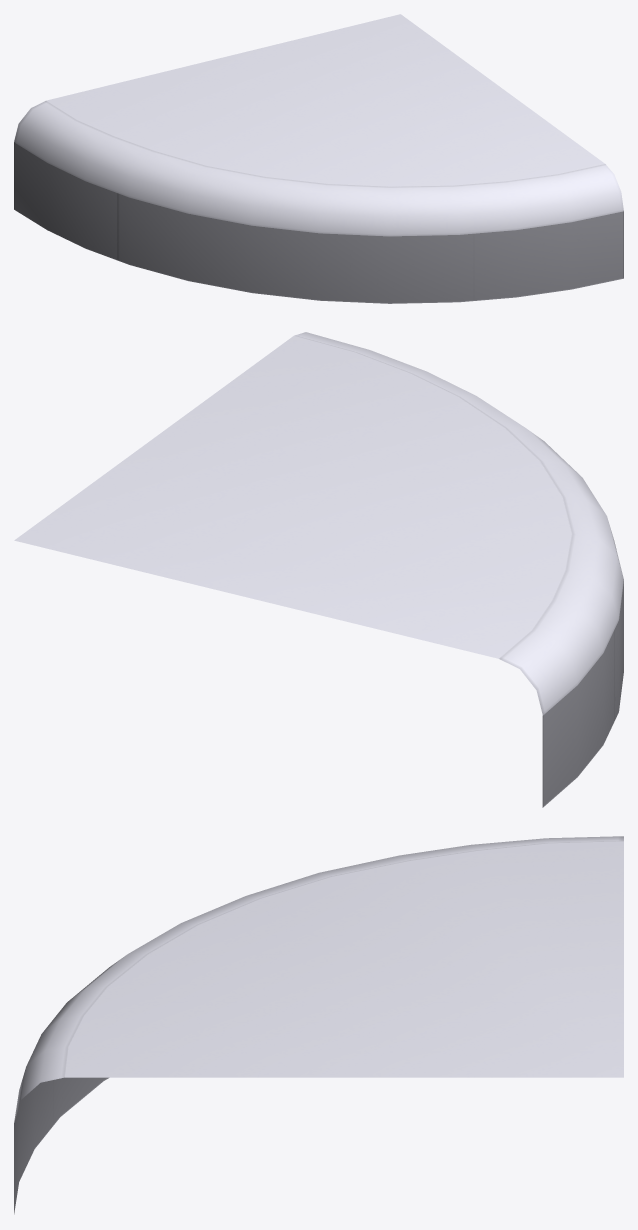
The model's file is Roof_Angle_01.FBX.
The picture shows the model from 3 angles, top to bottom: view 1: azimuth 30°, elevation 25°; view 2: azimuth 150°, elevation 25°; view 3: azimuth 270°, elevation 25°; orthographic projection. The views are drawn at different scales.
Visible parts, largest first — view 1: Roof_Angle_01; view 2: Roof_Angle_01; view 3: Roof_Angle_01.
Part boxes in pixels (left/top/right/bottom): Roof_Angle_01: left=14, top=14, right=623, bottom=303; Roof_Angle_01: left=14, top=332, right=623, bottom=807; Roof_Angle_01: left=14, top=836, right=623, bottom=1214.
Size of the model in its own units: 3 by 0.75 by 3.
1 material, 1 textured.
